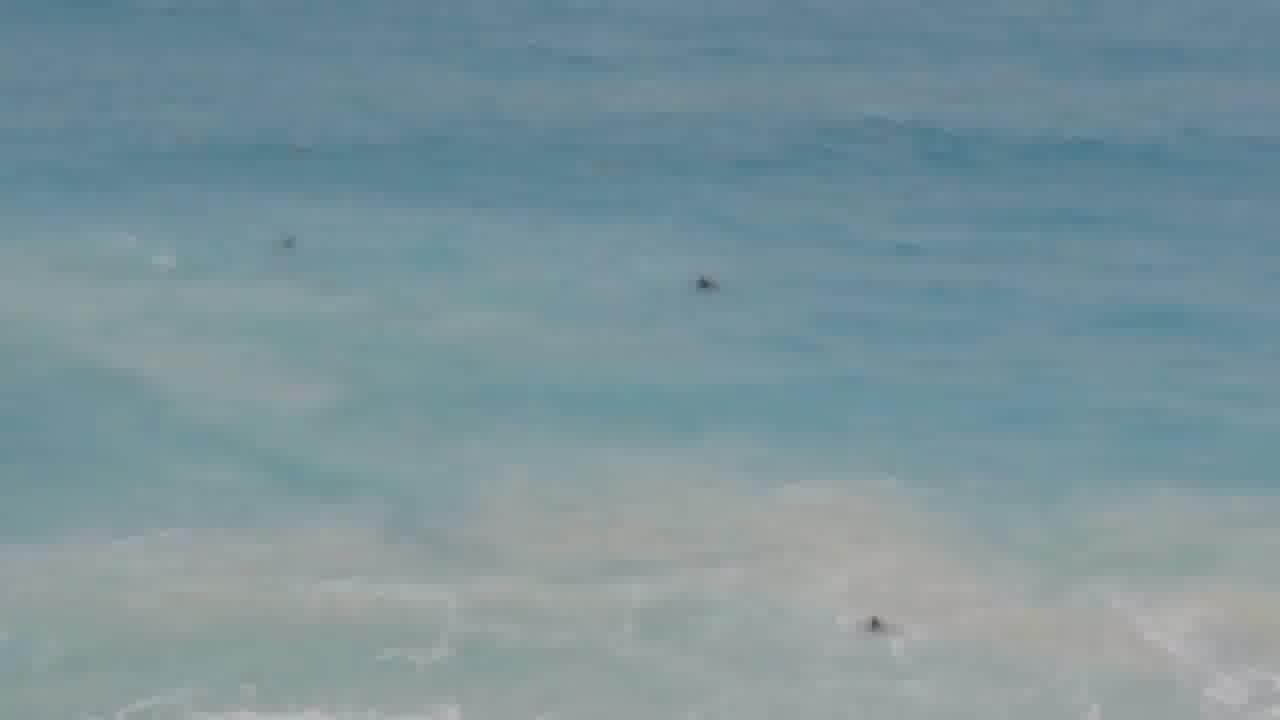human: (850, 607, 915, 650), (682, 263, 733, 302), (267, 224, 319, 259)
